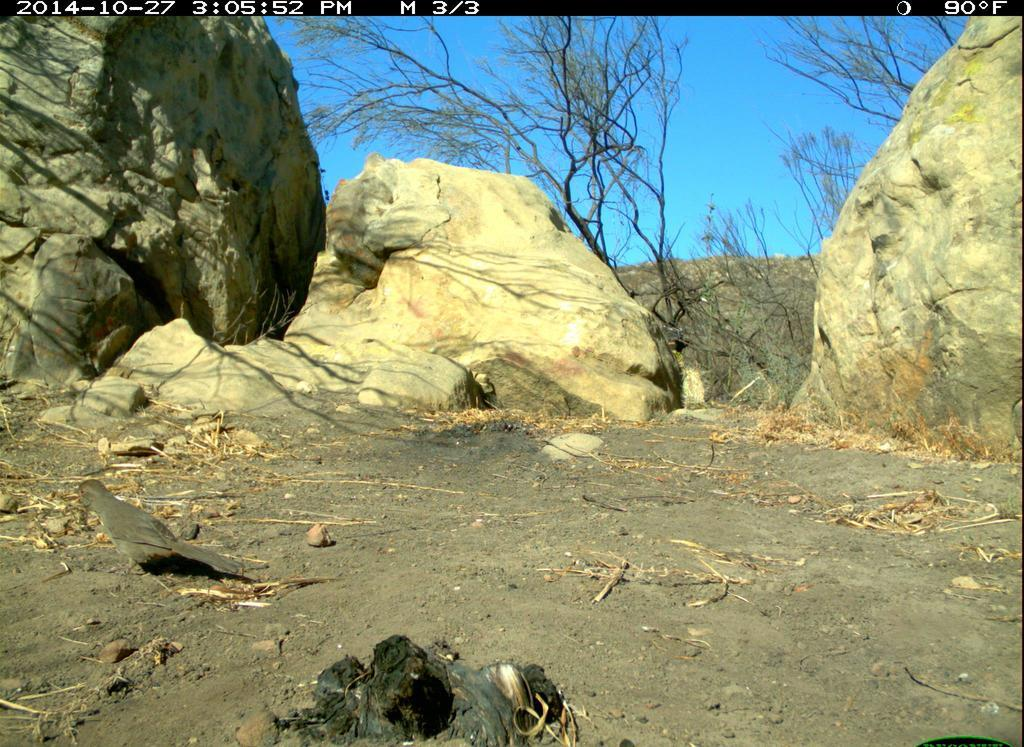bird: (77, 478, 262, 597)
